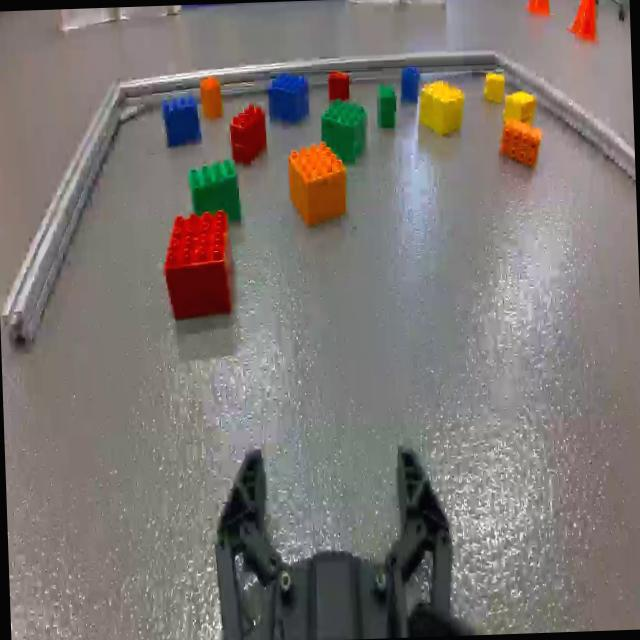block: (418, 78, 462, 138), (503, 90, 534, 123), (483, 71, 505, 103)
blue: (267, 73, 310, 124), (161, 93, 203, 143), (399, 68, 418, 104)
cone: (567, 0, 597, 46), (524, 0, 552, 19)
green: (320, 96, 368, 164), (187, 162, 240, 222), (376, 82, 396, 130)
metal barrier: (0, 44, 640, 351)
orange: (288, 139, 347, 225), (498, 118, 542, 170), (200, 74, 222, 119)
red goal: (162, 212, 236, 323), (229, 104, 268, 162), (327, 70, 349, 102)
storage cube: (57, 7, 117, 34), (120, 5, 179, 20), (348, 0, 400, 6), (407, 0, 446, 7)
